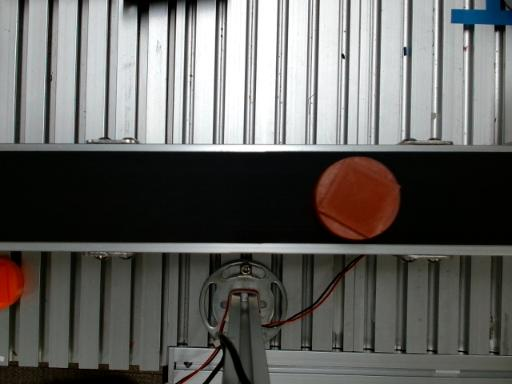Brown_Waper: (315, 157, 401, 240)
Square: (316, 158, 399, 240)
